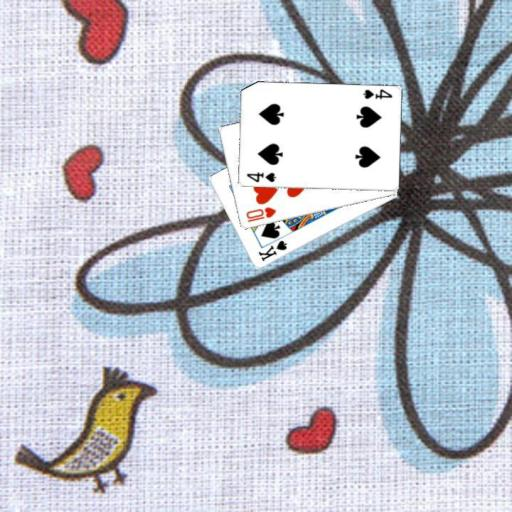10H: (243, 204, 278, 224)
4S: (244, 169, 278, 184), (360, 86, 393, 101)
KS: (255, 238, 289, 263)
